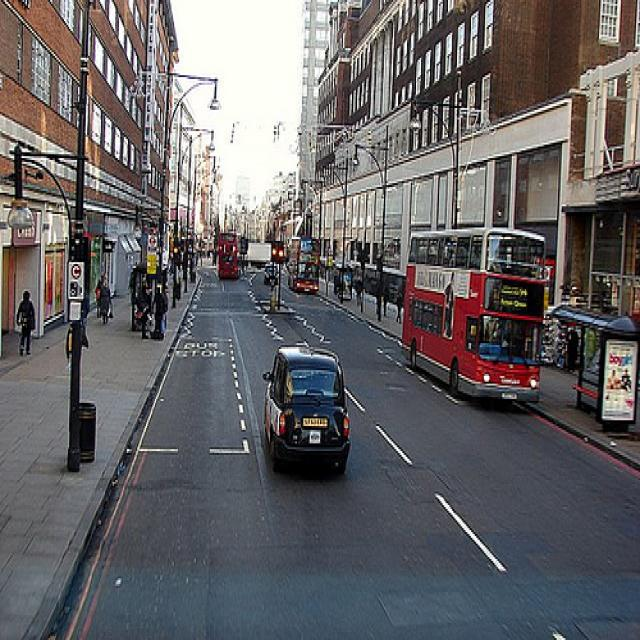Vehicle: (398, 228, 548, 404), (261, 347, 352, 478), (288, 238, 320, 294), (218, 234, 239, 278), (263, 264, 279, 286)
